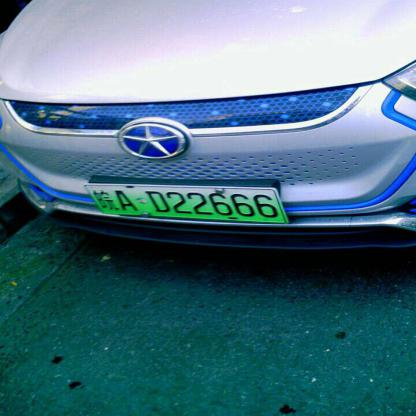lp: (86, 186, 286, 221)
